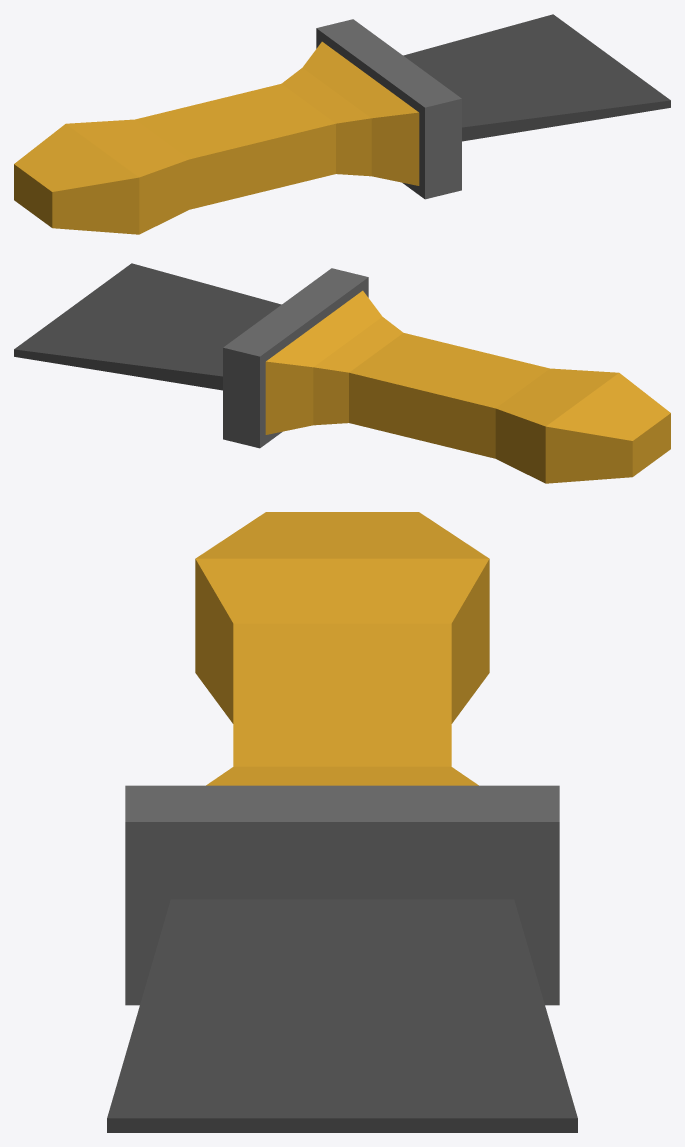
3 views of the same model, one above another, from view 1: azimuth 30°, elevation 25°; view 2: azimuth 150°, elevation 25°; view 3: azimuth 270°, elevation 25° (orthographic). The views are drawn at different scales.
Parts seen in each view (by area): view 1: F-3; view 2: F-3; view 3: F-3.
Boxes of the visible parts, x1,y1,x2,y2 form: F-3: [14, 14, 670, 234]; F-3: [14, 263, 670, 483]; F-3: [107, 512, 577, 1132].
Bounding box in the file's own units: 55.01 × 8.33 × 19.37.
